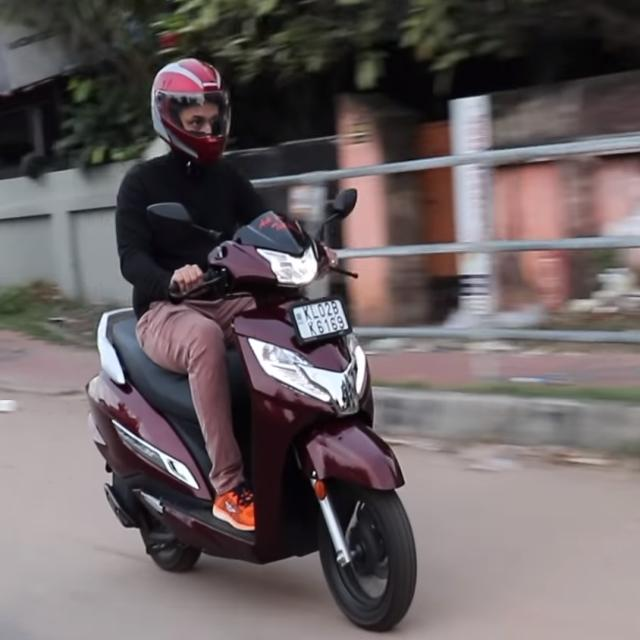helmet: (142, 50, 236, 166)
